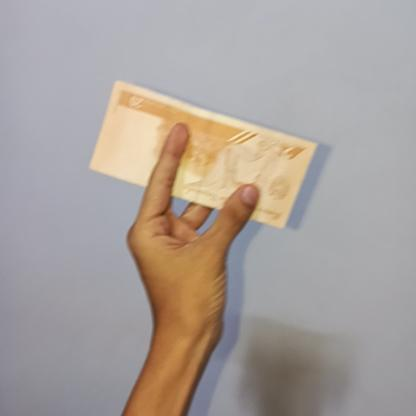twenty-back-vef: (87, 80, 318, 228)
